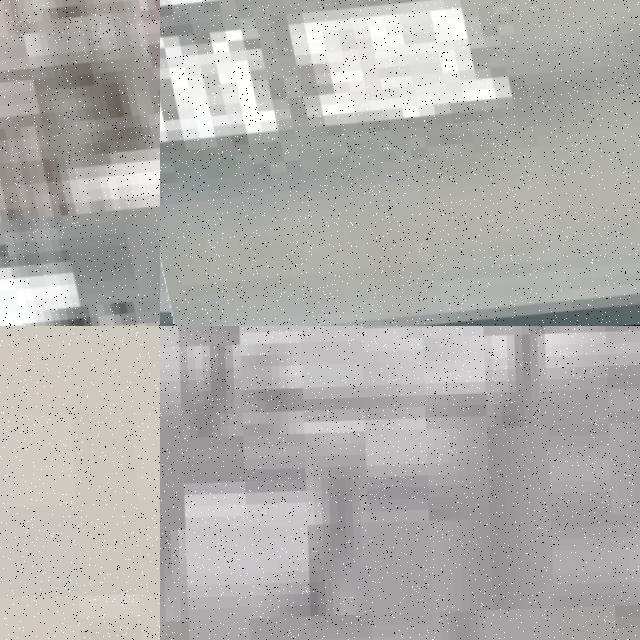drone: (160, 0, 640, 326), (0, 0, 160, 326)
